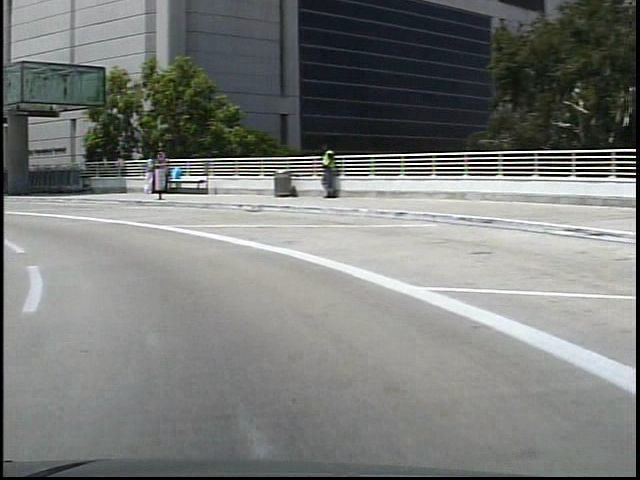person: (310, 141, 333, 201)
